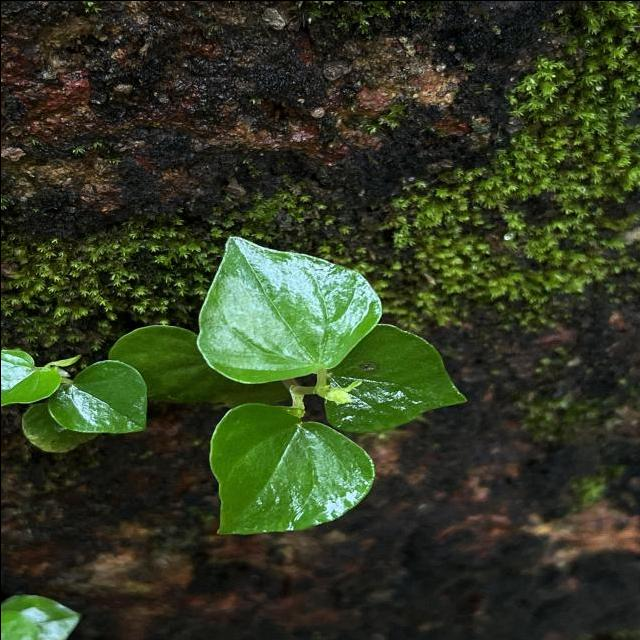Peperomia pellucida: (194, 234, 384, 386), (206, 400, 374, 536)
